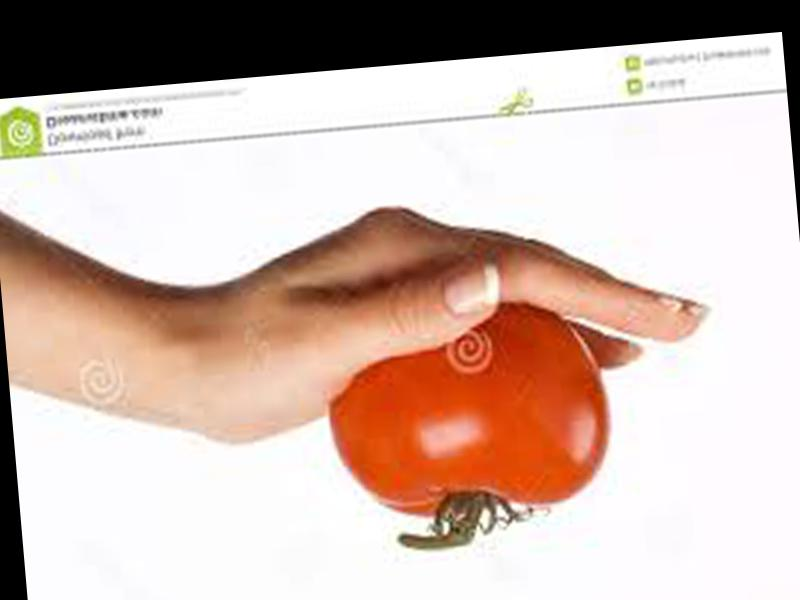Tomato: (321, 296, 615, 524)
